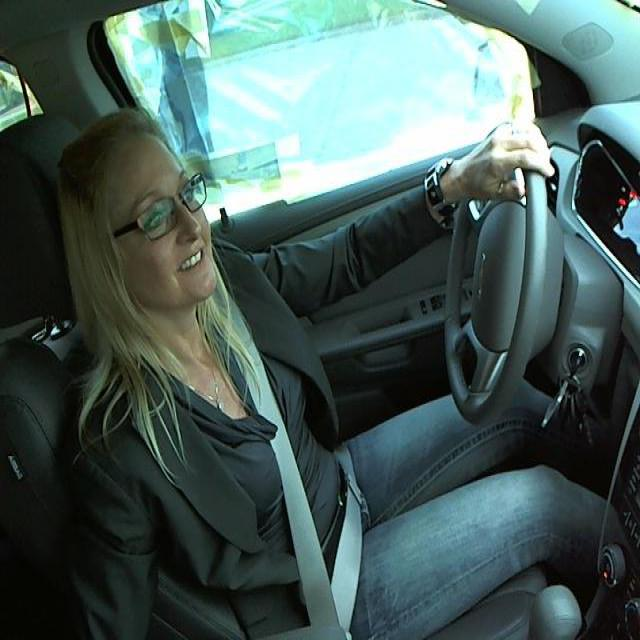seatbelt: (225, 322, 384, 626)
